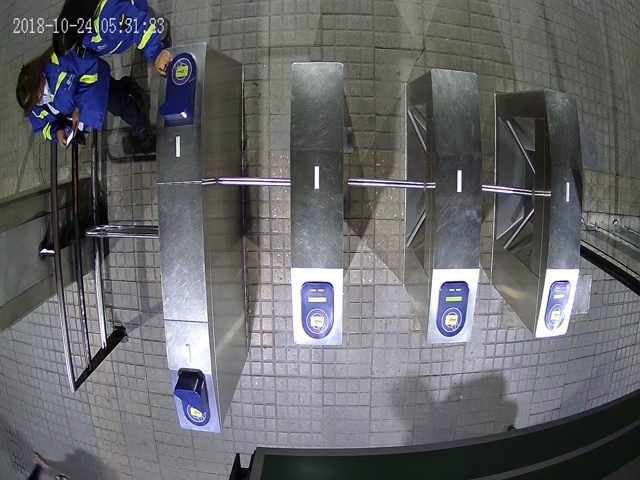Chaleco_azul: (15, 44, 152, 137), (53, 1, 172, 75)
